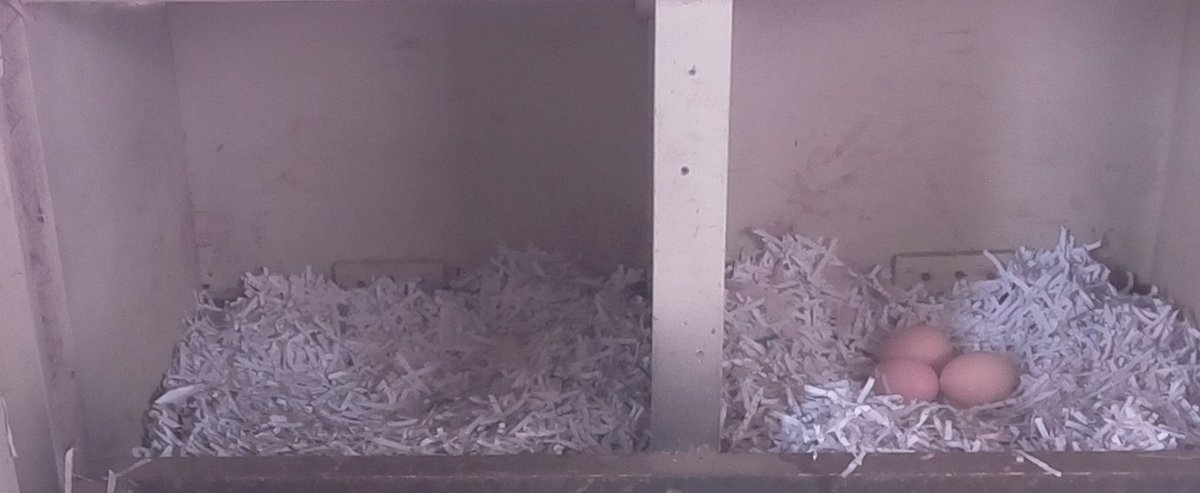egg: (937, 348, 1026, 407), (865, 357, 945, 406), (870, 323, 957, 365)
